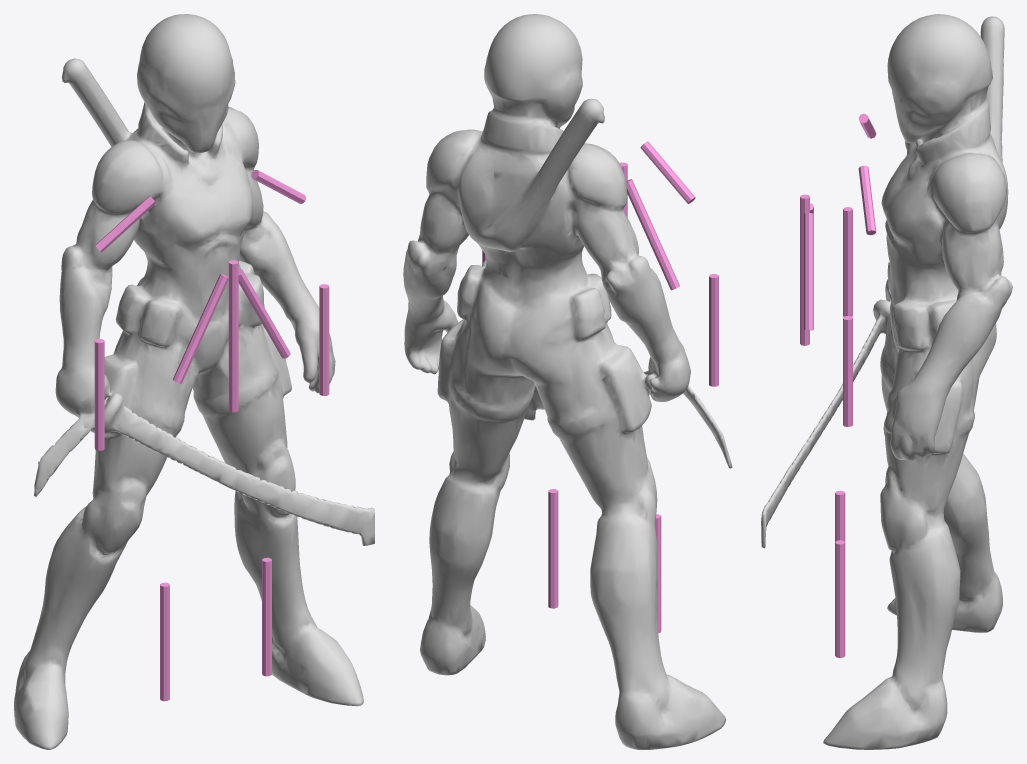
Rendered from Enforcer_Sword.fbx.
The picture shows the model from 3 angles, left to right: view 1: azimuth 30°, elevation 25°; view 2: azimuth 150°, elevation 25°; view 3: azimuth 270°, elevation 25°; orthographic projection.
Parts seen in each view (by area): view 1: Enforcer_Sword; view 2: Enforcer_Sword; view 3: Enforcer_Sword.
Part boxes in pixels (x1,y1,x2,y2): Enforcer_Sword: [14, 14, 374, 749]; Enforcer_Sword: [403, 14, 732, 749]; Enforcer_Sword: [761, 14, 1012, 749].
Size of the model in its own units: 90.8 by 189 by 64.53.
